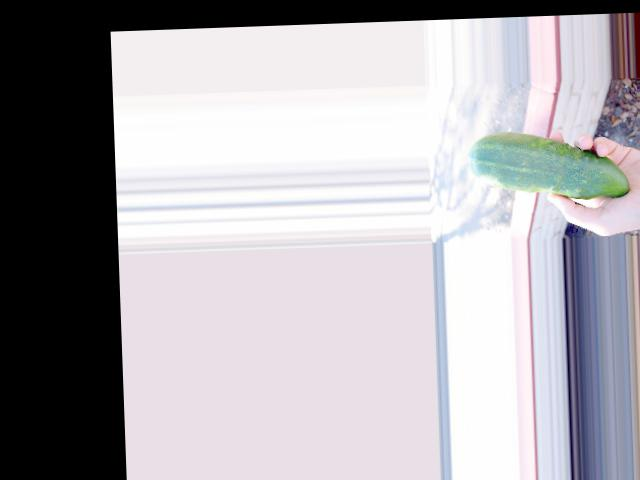cucumber: (468, 126, 629, 202)
